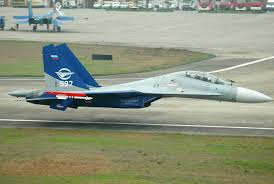maybay_muctieu: (11, 40, 274, 118)
